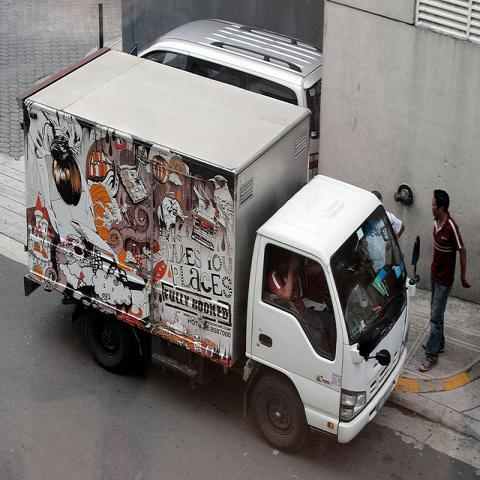car: (137, 12, 325, 180)
truck: (17, 44, 417, 451)
